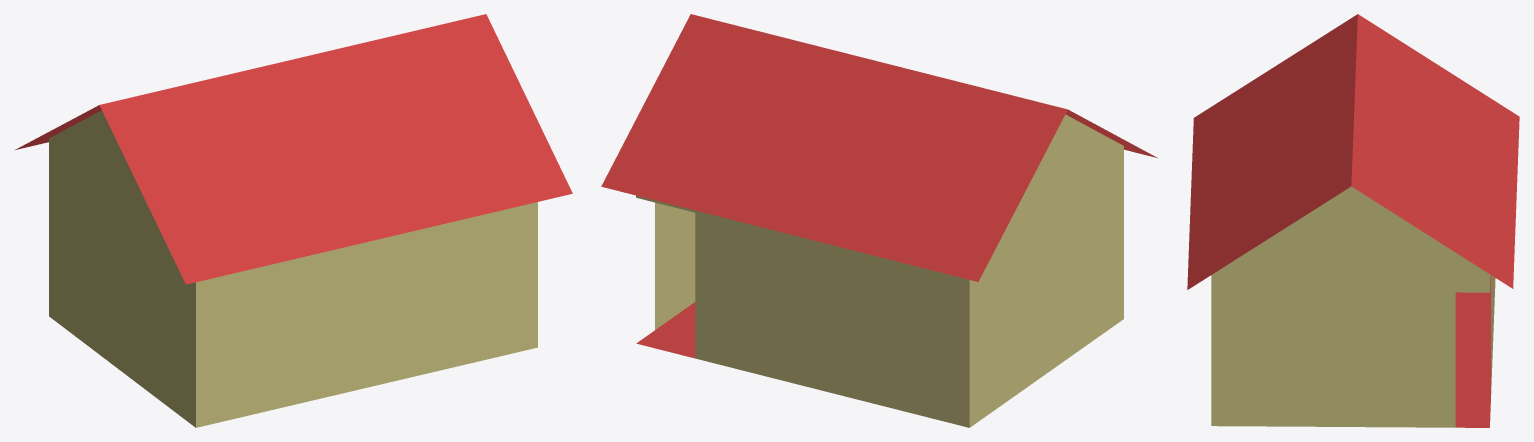
The picture shows the model from 3 angles, left to right: view 1: azimuth 30°, elevation 25°; view 2: azimuth 150°, elevation 25°; view 3: azimuth 270°, elevation 25°; orthographic projection. The views are drawn at different scales.
Size of the model in its own units: 17.47 by 14.05 by 11.69.
